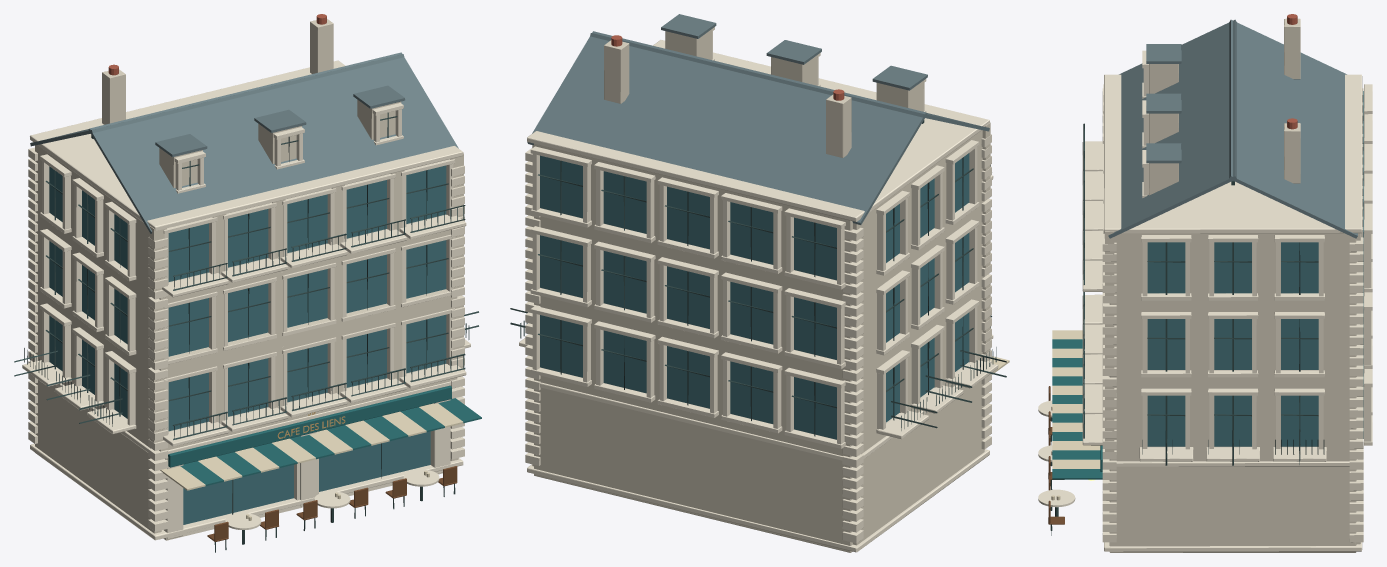
Rendered from Cafe-lod.glb.
The picture shows the model from 3 angles, left to right: view 1: azimuth 30°, elevation 25°; view 2: azimuth 150°, elevation 25°; view 3: azimuth 270°, elevation 25°; orthographic projection. The views are drawn at different scales.
Visible parts, largest first — view 1: Cafe_Carved ivory.001, Cafe_Window blue.001, Cafe_Paris limestone.001, Cafe_Zinc slate.001, Cafe_Forged midnight.001, Cafe_3B petrol.001, Cafe_Canvas ivory.001, Cafe_Walnut.001; view 2: Cafe_Carved ivory.001, Cafe_Paris limestone.001, Cafe_Window blue.001, Cafe_Zinc slate.001, Cafe_Forged midnight.001; view 3: Cafe_Paris limestone.001, Cafe_Carved ivory.001, Cafe_Zinc slate.001, Cafe_Window blue.001, Cafe_3B petrol.001, Cafe_Forged midnight.001, Cafe_Canvas ivory.001, Cafe_Walnut.001.
Part boxes in pixels (left/top/right/bottom): Cafe_Carved ivory.001: left=22, top=60, right=470, bottom=540; Cafe_Window blue.001: left=49, top=165, right=446, bottom=524; Cafe_Paris limestone.001: left=35, top=19, right=463, bottom=533; Cafe_Zinc slate.001: left=30, top=52, right=458, bottom=233; Cafe_Forged midnight.001: left=14, top=112, right=478, bottom=552; Cafe_3B petrol.001: left=168, top=385, right=481, bottom=485; Cafe_Canvas ivory.001: left=160, top=403, right=463, bottom=520; Cafe_Walnut.001: left=207, top=466, right=457, bottom=541; Cafe_Carved ivory.001: left=519, top=27, right=998, bottom=552; Cafe_Paris limestone.001: left=532, top=29, right=990, bottom=552; Cafe_Window blue.001: left=540, top=153, right=969, bottom=439; Cafe_Zinc slate.001: left=527, top=14, right=989, bottom=224; Cafe_Forged midnight.001: left=510, top=120, right=1006, bottom=436; Cafe_Paris limestone.001: left=1105, top=18, right=1360, bottom=552; Cafe_Carved ivory.001: left=1038, top=50, right=1372, bottom=551; Cafe_Zinc slate.001: left=1108, top=19, right=1357, bottom=238; Cafe_Window blue.001: left=1147, top=91, right=1363, bottom=446; Cafe_3B petrol.001: left=1052, top=339, right=1102, bottom=479; Cafe_Forged midnight.001: left=1050, top=123, right=1324, bottom=535; Cafe_Canvas ivory.001: left=1051, top=330, right=1100, bottom=500; Cafe_Walnut.001: left=1048, top=386, right=1064, bottom=524.
Size of the model in its own units: 26.91 by 25.61 by 18.97.
